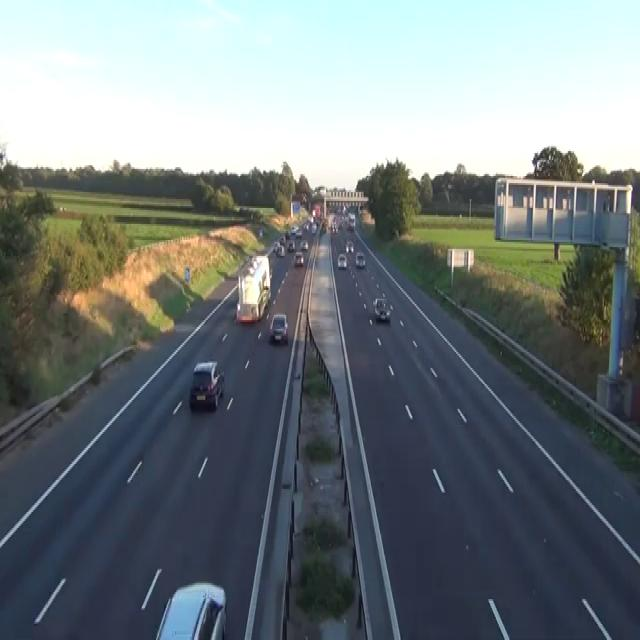Car: (154, 582, 227, 638), (189, 359, 224, 411), (269, 313, 288, 343), (372, 297, 391, 320), (355, 250, 365, 266), (294, 250, 304, 266), (337, 252, 347, 268), (0, 148, 7, 167), (372, 297, 384, 307), (345, 240, 354, 252), (276, 244, 285, 256), (272, 240, 280, 252), (287, 240, 295, 251), (300, 192, 307, 204), (299, 240, 308, 249), (320, 222, 327, 233), (346, 221, 353, 231), (302, 220, 309, 230), (290, 226, 297, 234), (295, 228, 302, 236), (284, 230, 291, 238), (311, 224, 316, 235), (279, 234, 285, 243), (259, 228, 262, 236)
Truck: (235, 254, 271, 324)
